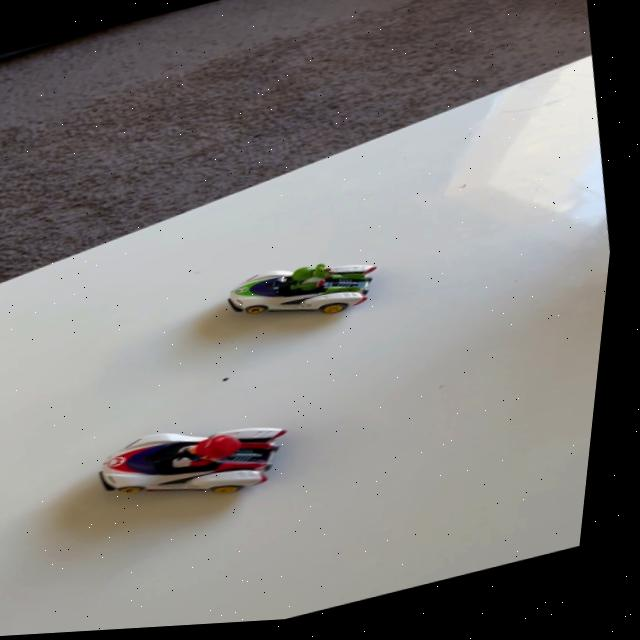mario: (86, 395, 324, 533)
yoshi: (219, 241, 409, 341)
